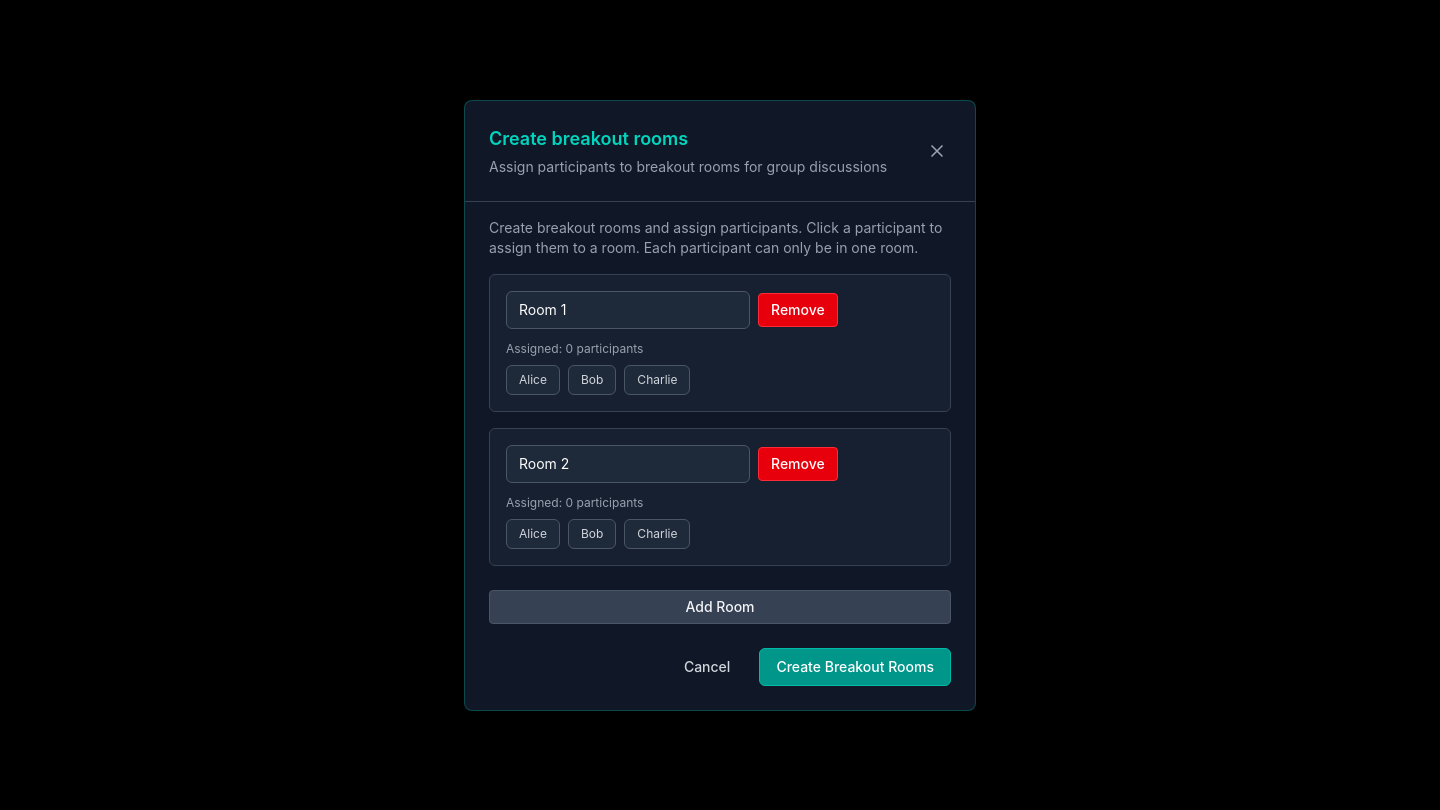
Test: BreakoutModal Component › Room Management › allows removing rooms
The image size is (1440, 810).
Note: Remove the second room
Click the 2nd button "Remove".
click(798, 464)  # box [758,446,838,480]
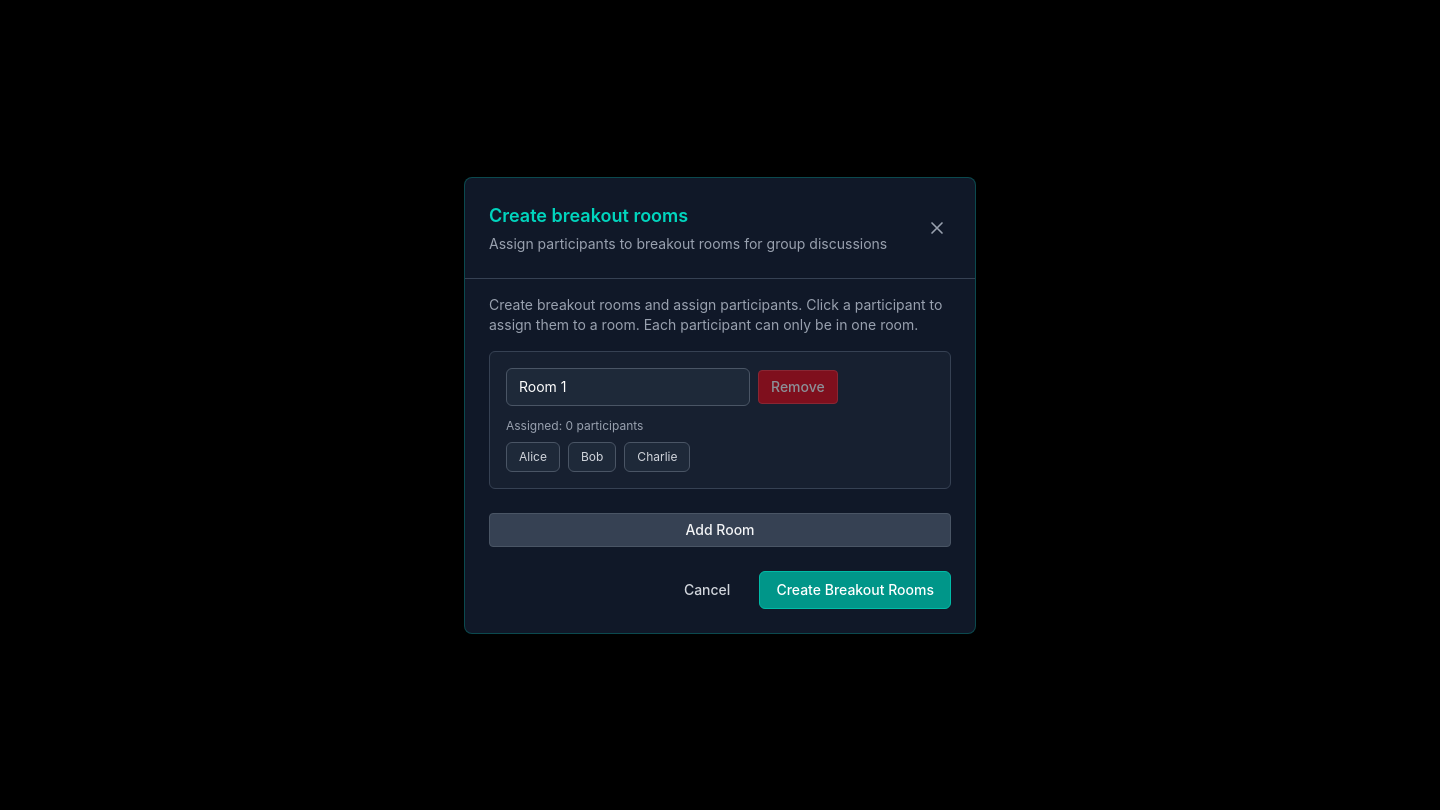
Expected: the number of fields with placeholder "Enter room name" is 1, [506,368,750,406]
